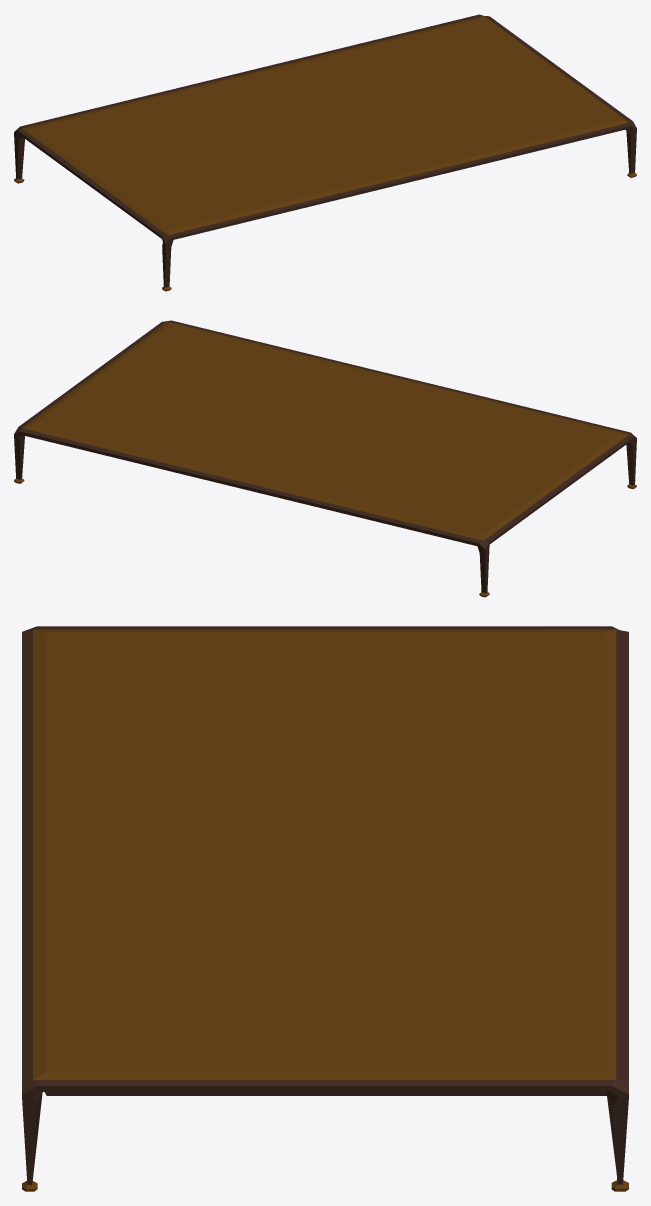
The model's file is GreatTable.fbx.
The picture shows the model from 3 angles, top to bottom: view 1: azimuth 30°, elevation 25°; view 2: azimuth 150°, elevation 25°; view 3: azimuth 270°, elevation 25°; orthographic projection. The views are drawn at different scales.
Visible parts, largest first — view 1: GreatTable; view 2: GreatTable; view 3: GreatTable.
Part boxes in pixels (x1,y1,x2,y2): GreatTable: [14, 14, 636, 291]; GreatTable: [14, 320, 636, 597]; GreatTable: [22, 626, 628, 1191].
Bounding box in the file's own units: 9 × 1 × 5.
